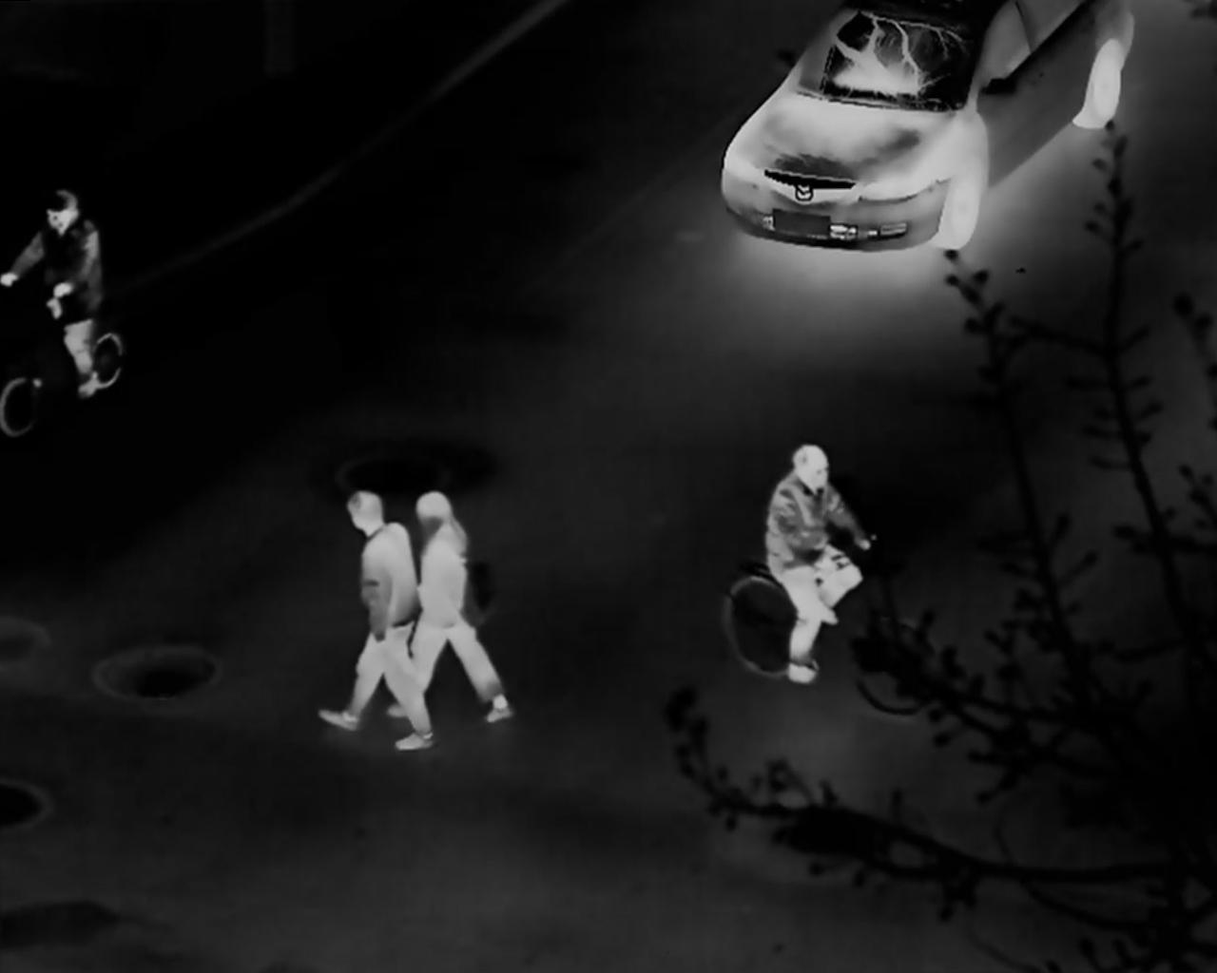person: (315, 489, 433, 752), (764, 443, 872, 686), (413, 490, 519, 725)
